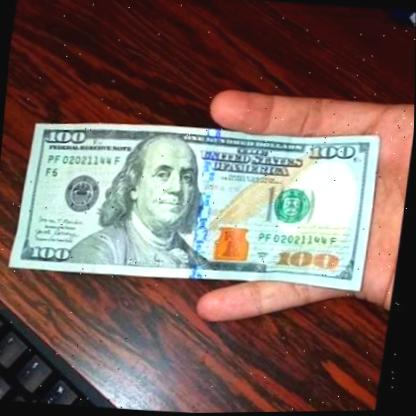one_hundred-front: (9, 104, 392, 304)
